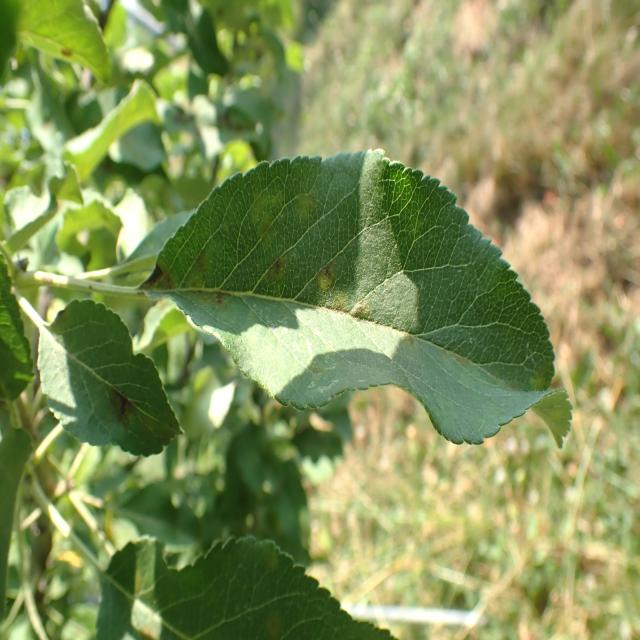scab: (128, 161, 541, 397)
